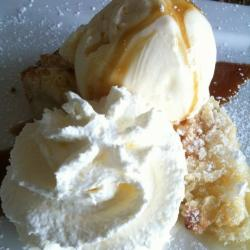apple_pie: (22, 39, 249, 250)
chantilly: (14, 97, 183, 250)
icecream: (81, 1, 213, 125)
